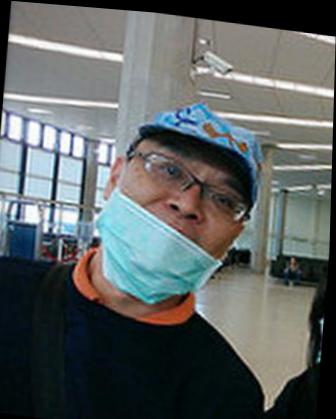WRONG: (113, 131, 255, 293)
